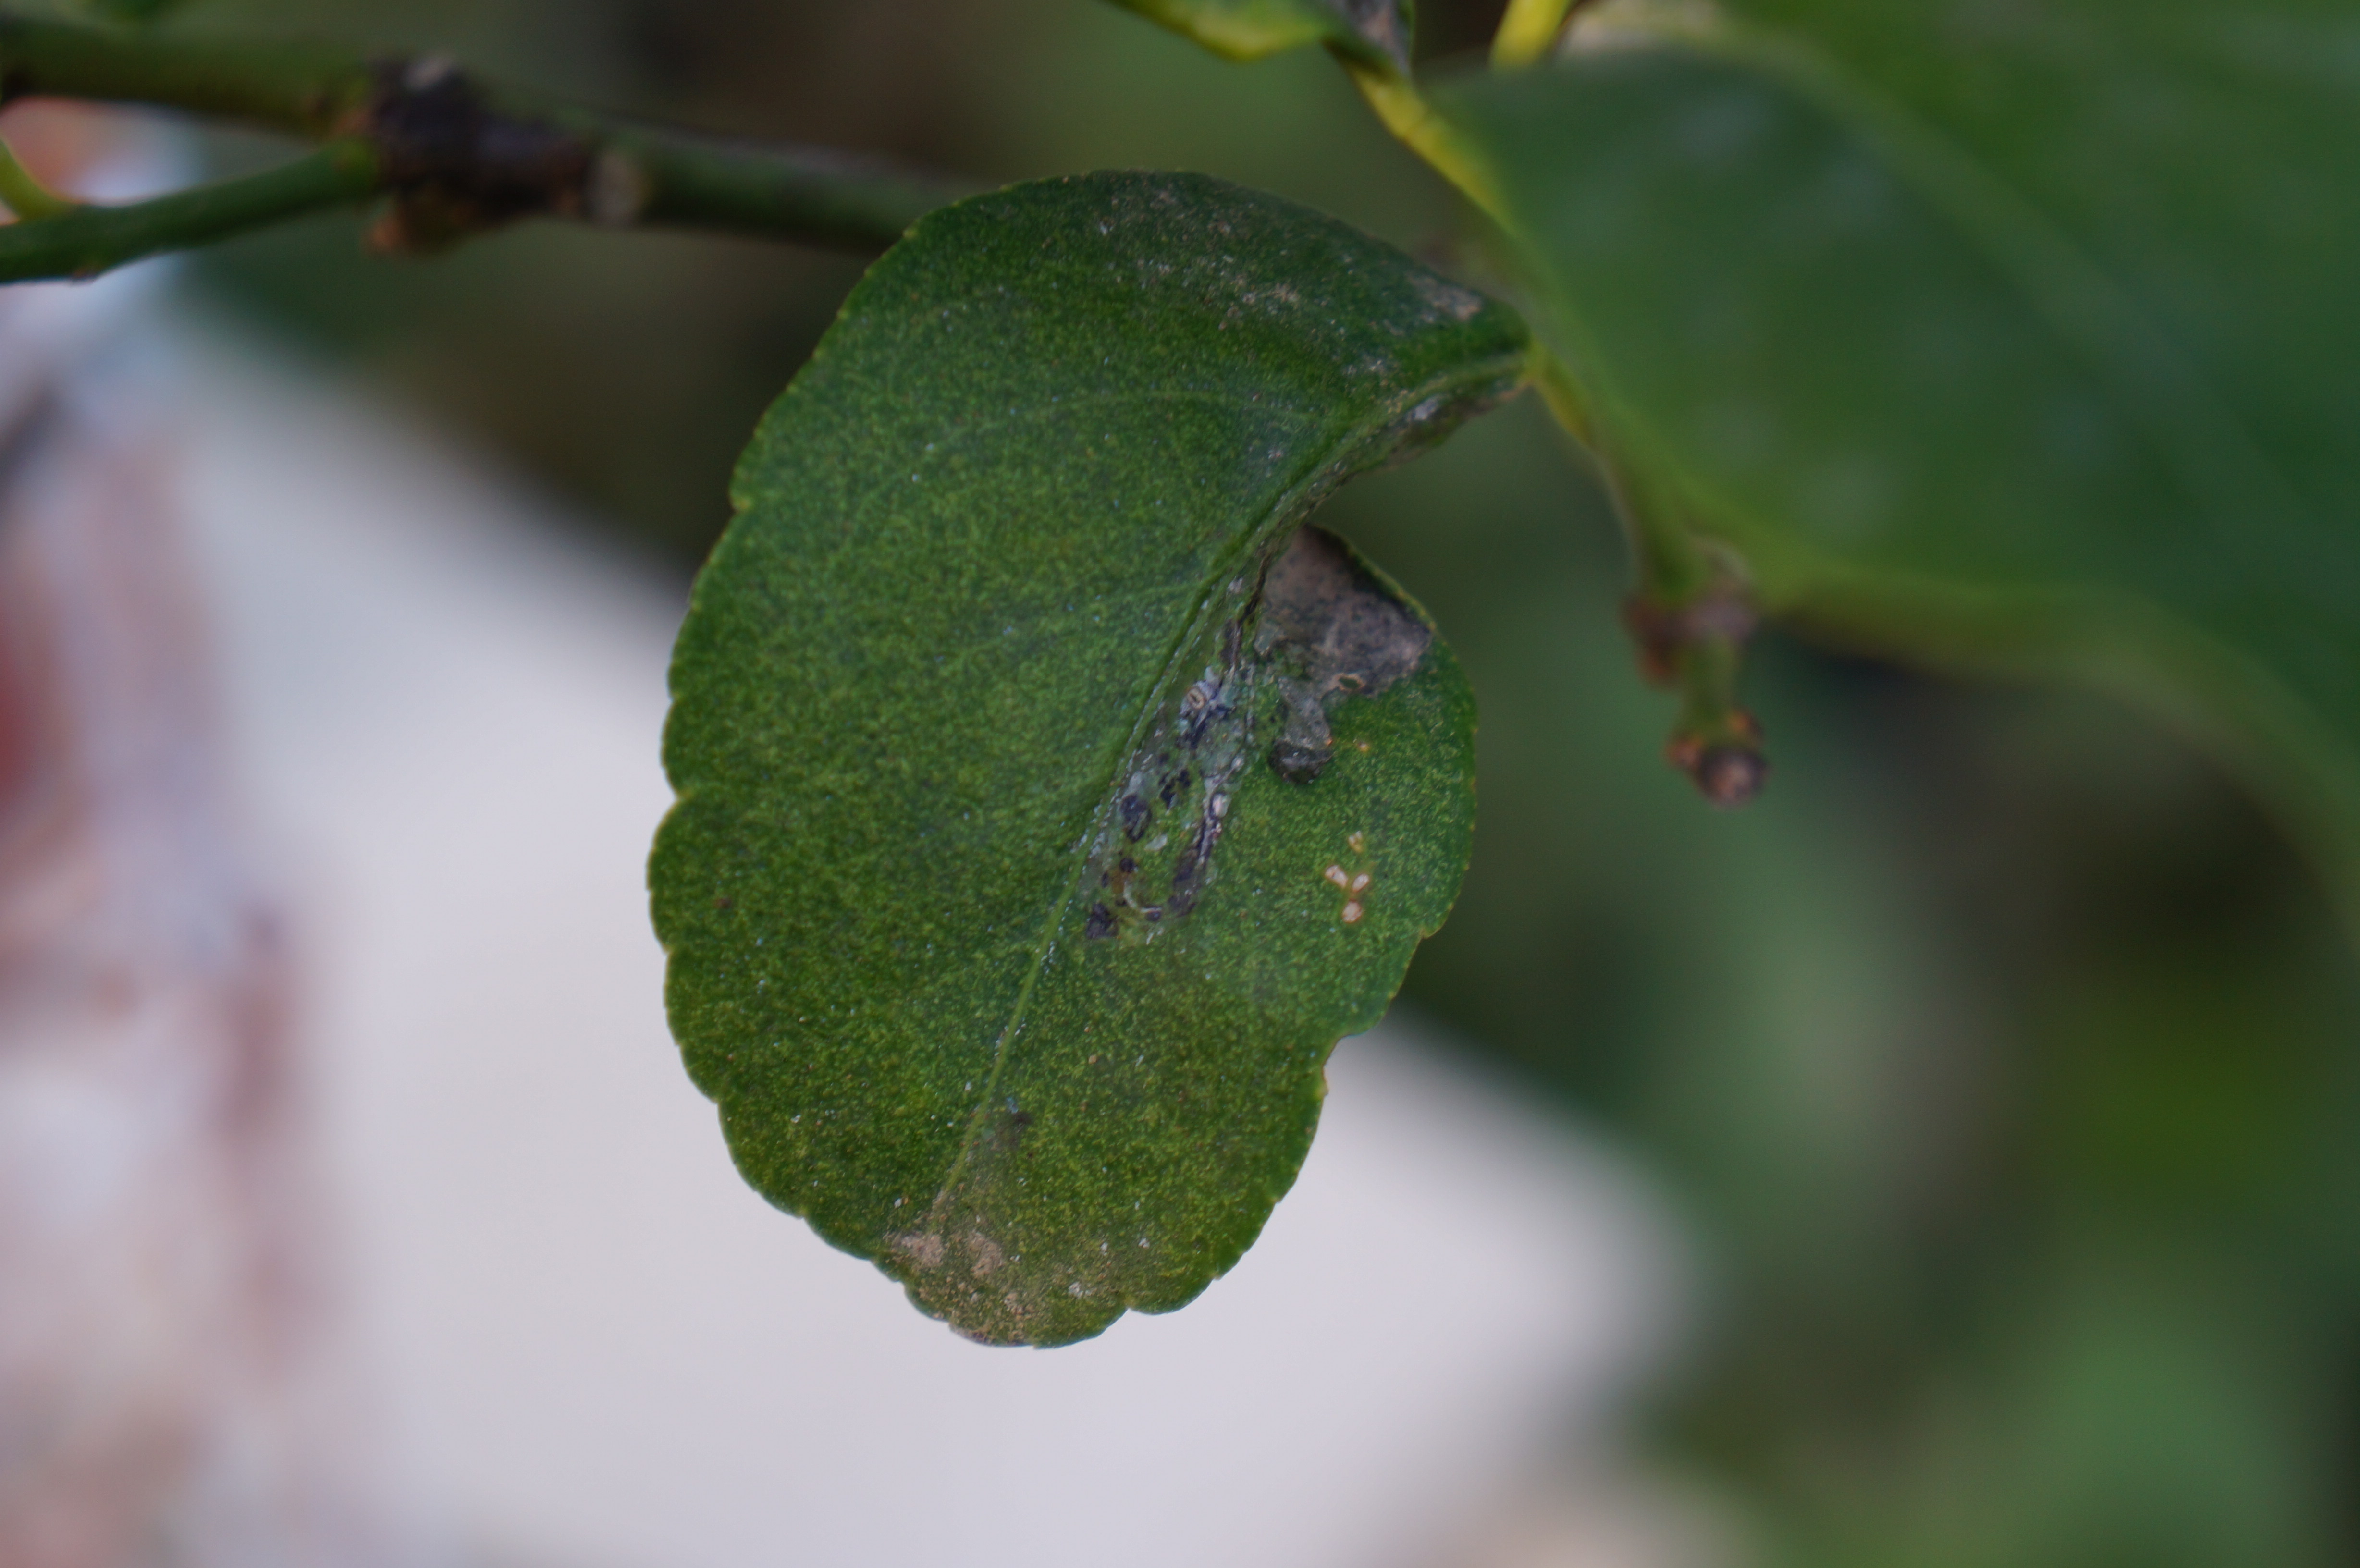damage: (1050, 383, 1510, 982)
